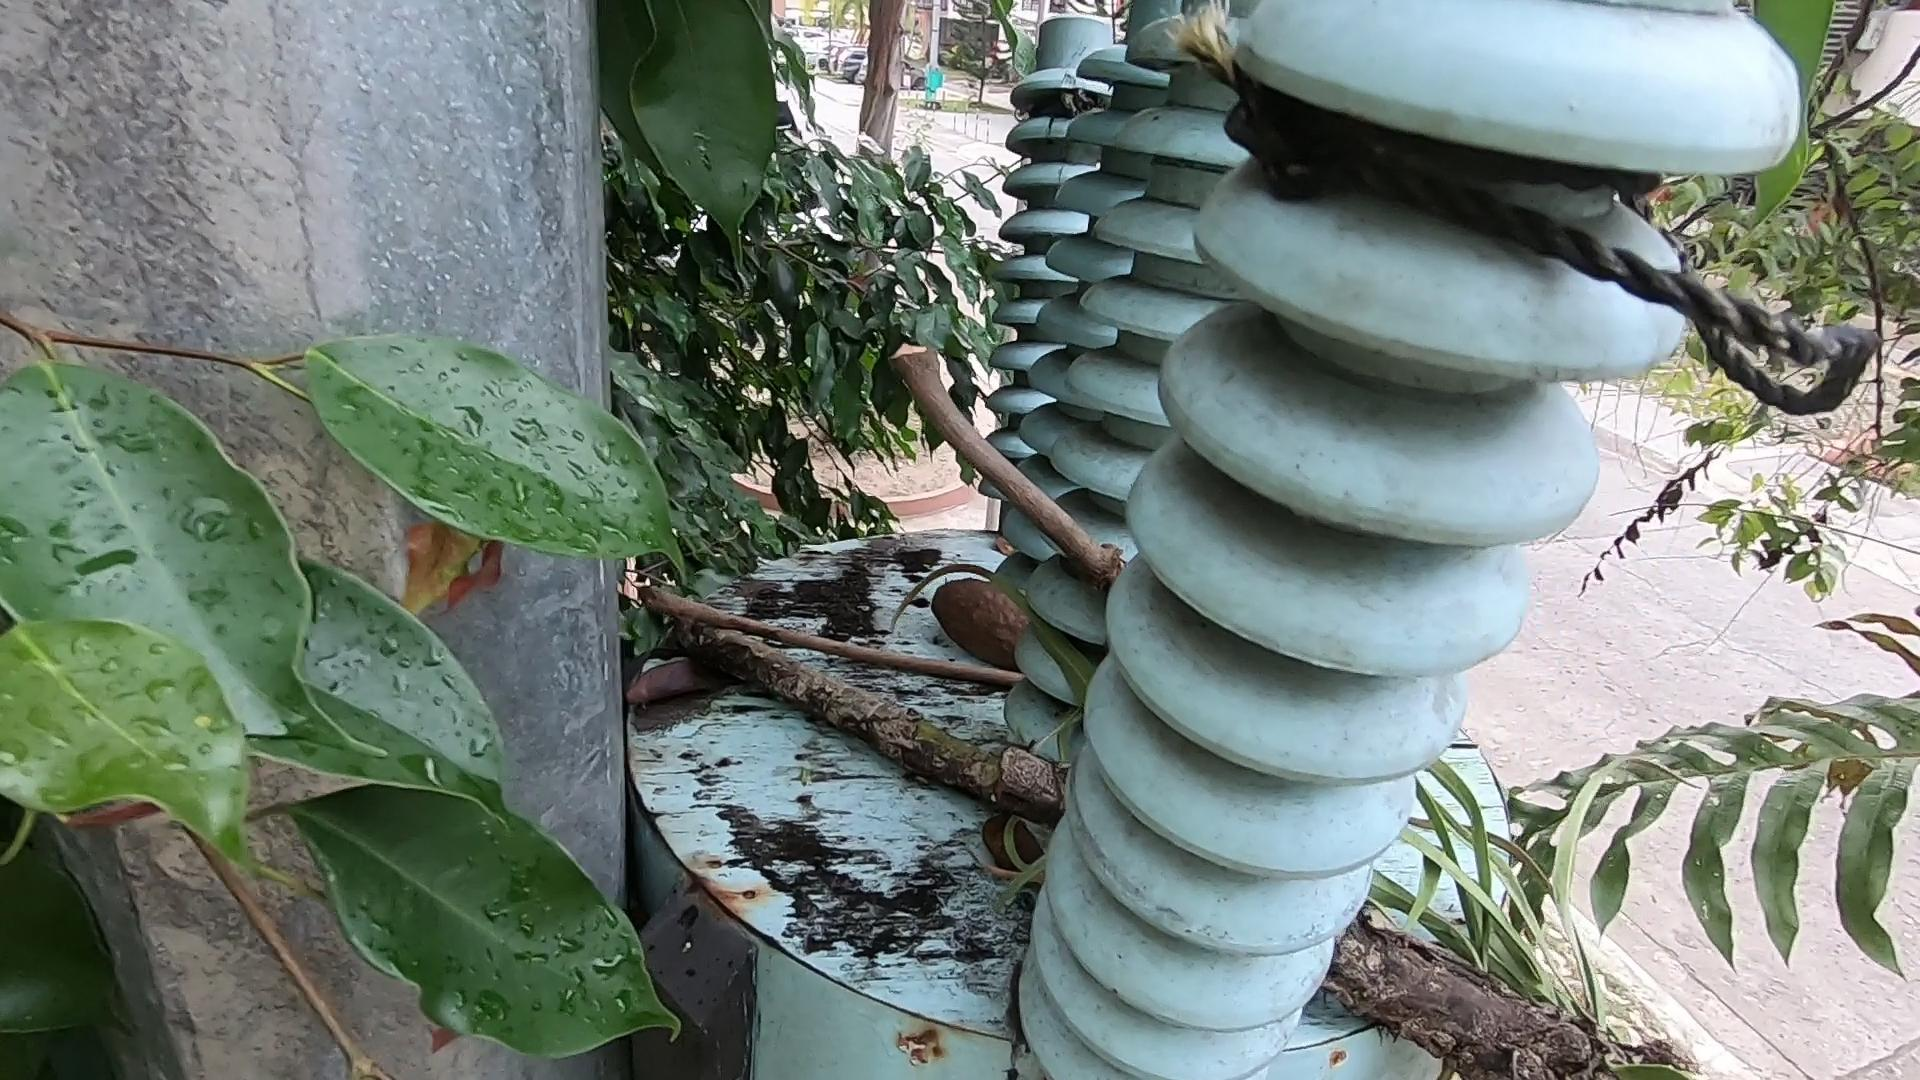branch with leaves: (679, 632, 1673, 1080)
leaf: (509, 556, 709, 808), (997, 819, 1054, 878)
mahogany fruit: (931, 571, 1033, 694)
tree branch: (901, 345, 1124, 584), (645, 593, 1036, 682)
